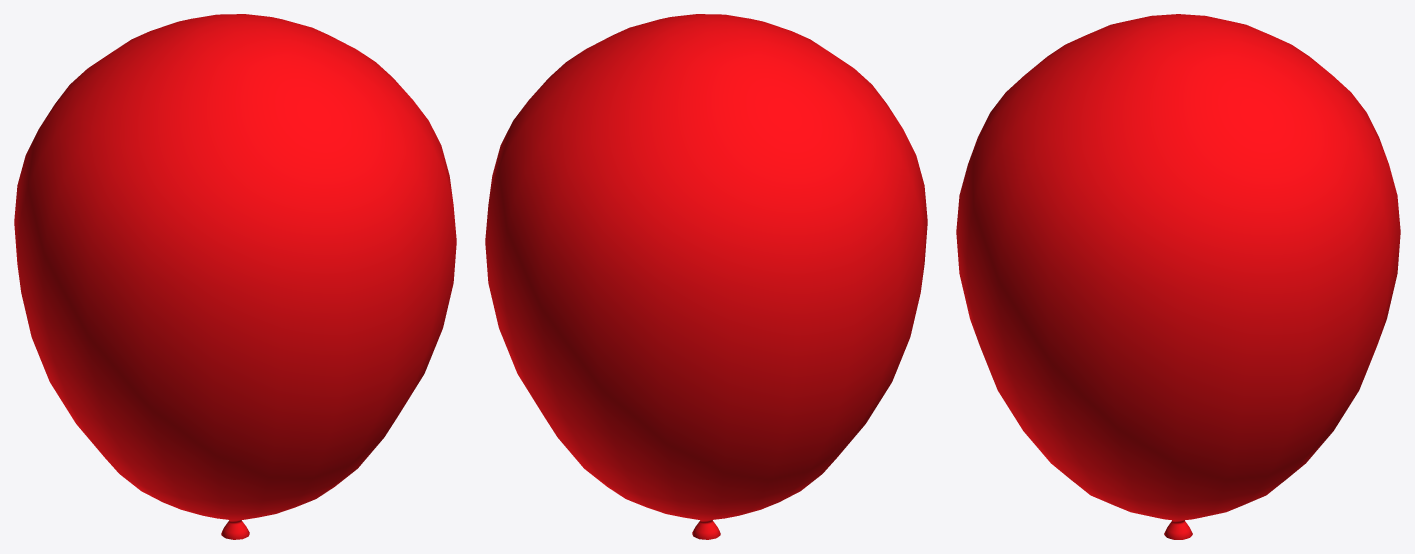
File: balloon.obj
3 views of the same model, side by side, from view 1: azimuth 30°, elevation 25°; view 2: azimuth 150°, elevation 25°; view 3: azimuth 270°, elevation 25° (orthographic).
Visible parts, largest first — view 1: balloon; view 2: balloon; view 3: balloon.
Part boxes in pixels (bbox=[...]): balloon: bbox=[14, 14, 456, 539]; balloon: bbox=[485, 14, 927, 539]; balloon: bbox=[956, 14, 1400, 539].
Bounding box in the file's own units: 2.16 × 2.69 × 2.16.
